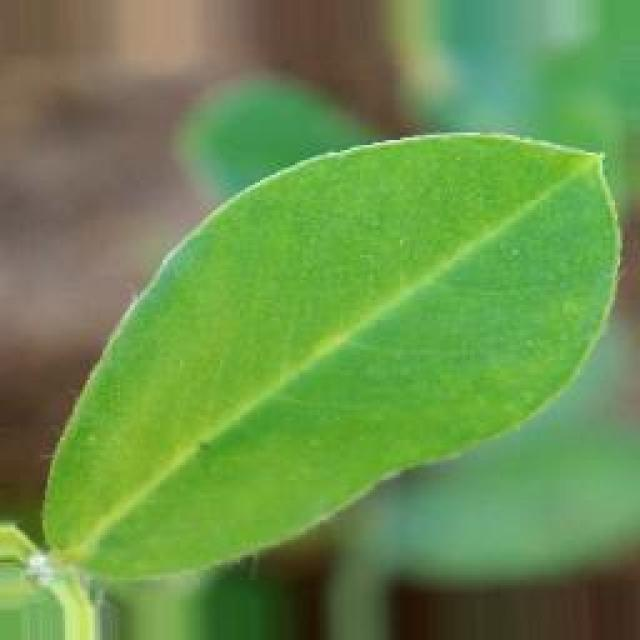Yellow_and_black_sigatoka: (38, 137, 619, 602)
